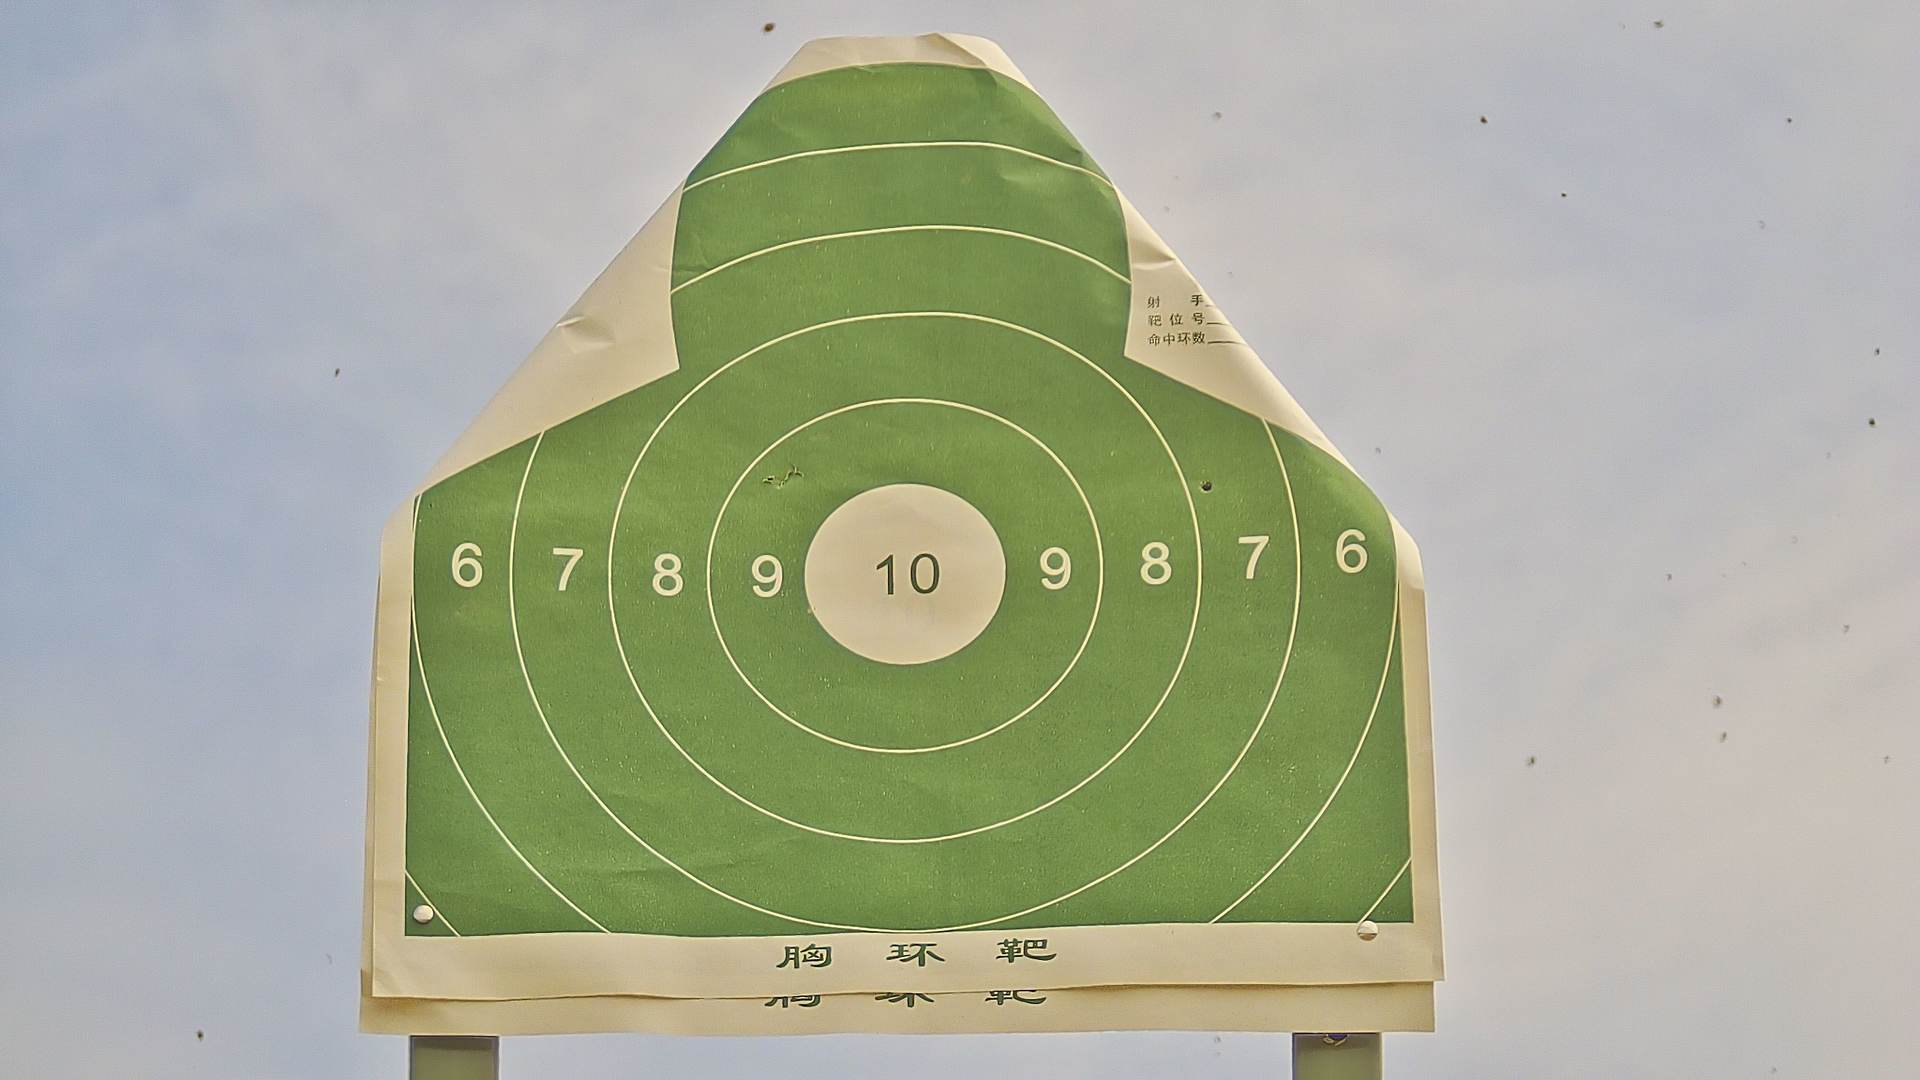hole: (1196, 477, 1217, 495)
kernel: (894, 572, 911, 582)
target: (405, 65, 1411, 928)
ten: (800, 483, 1010, 667)
